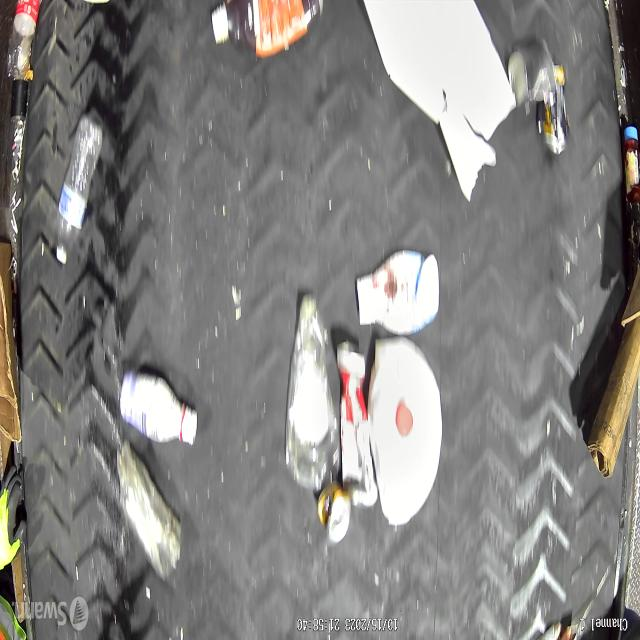can: (508, 34, 558, 109), (534, 62, 571, 156), (314, 478, 352, 546)
milk_jug: (367, 334, 442, 532)
plastic_bottle: (282, 288, 344, 493), (54, 110, 104, 268), (5, 1, 43, 82)
